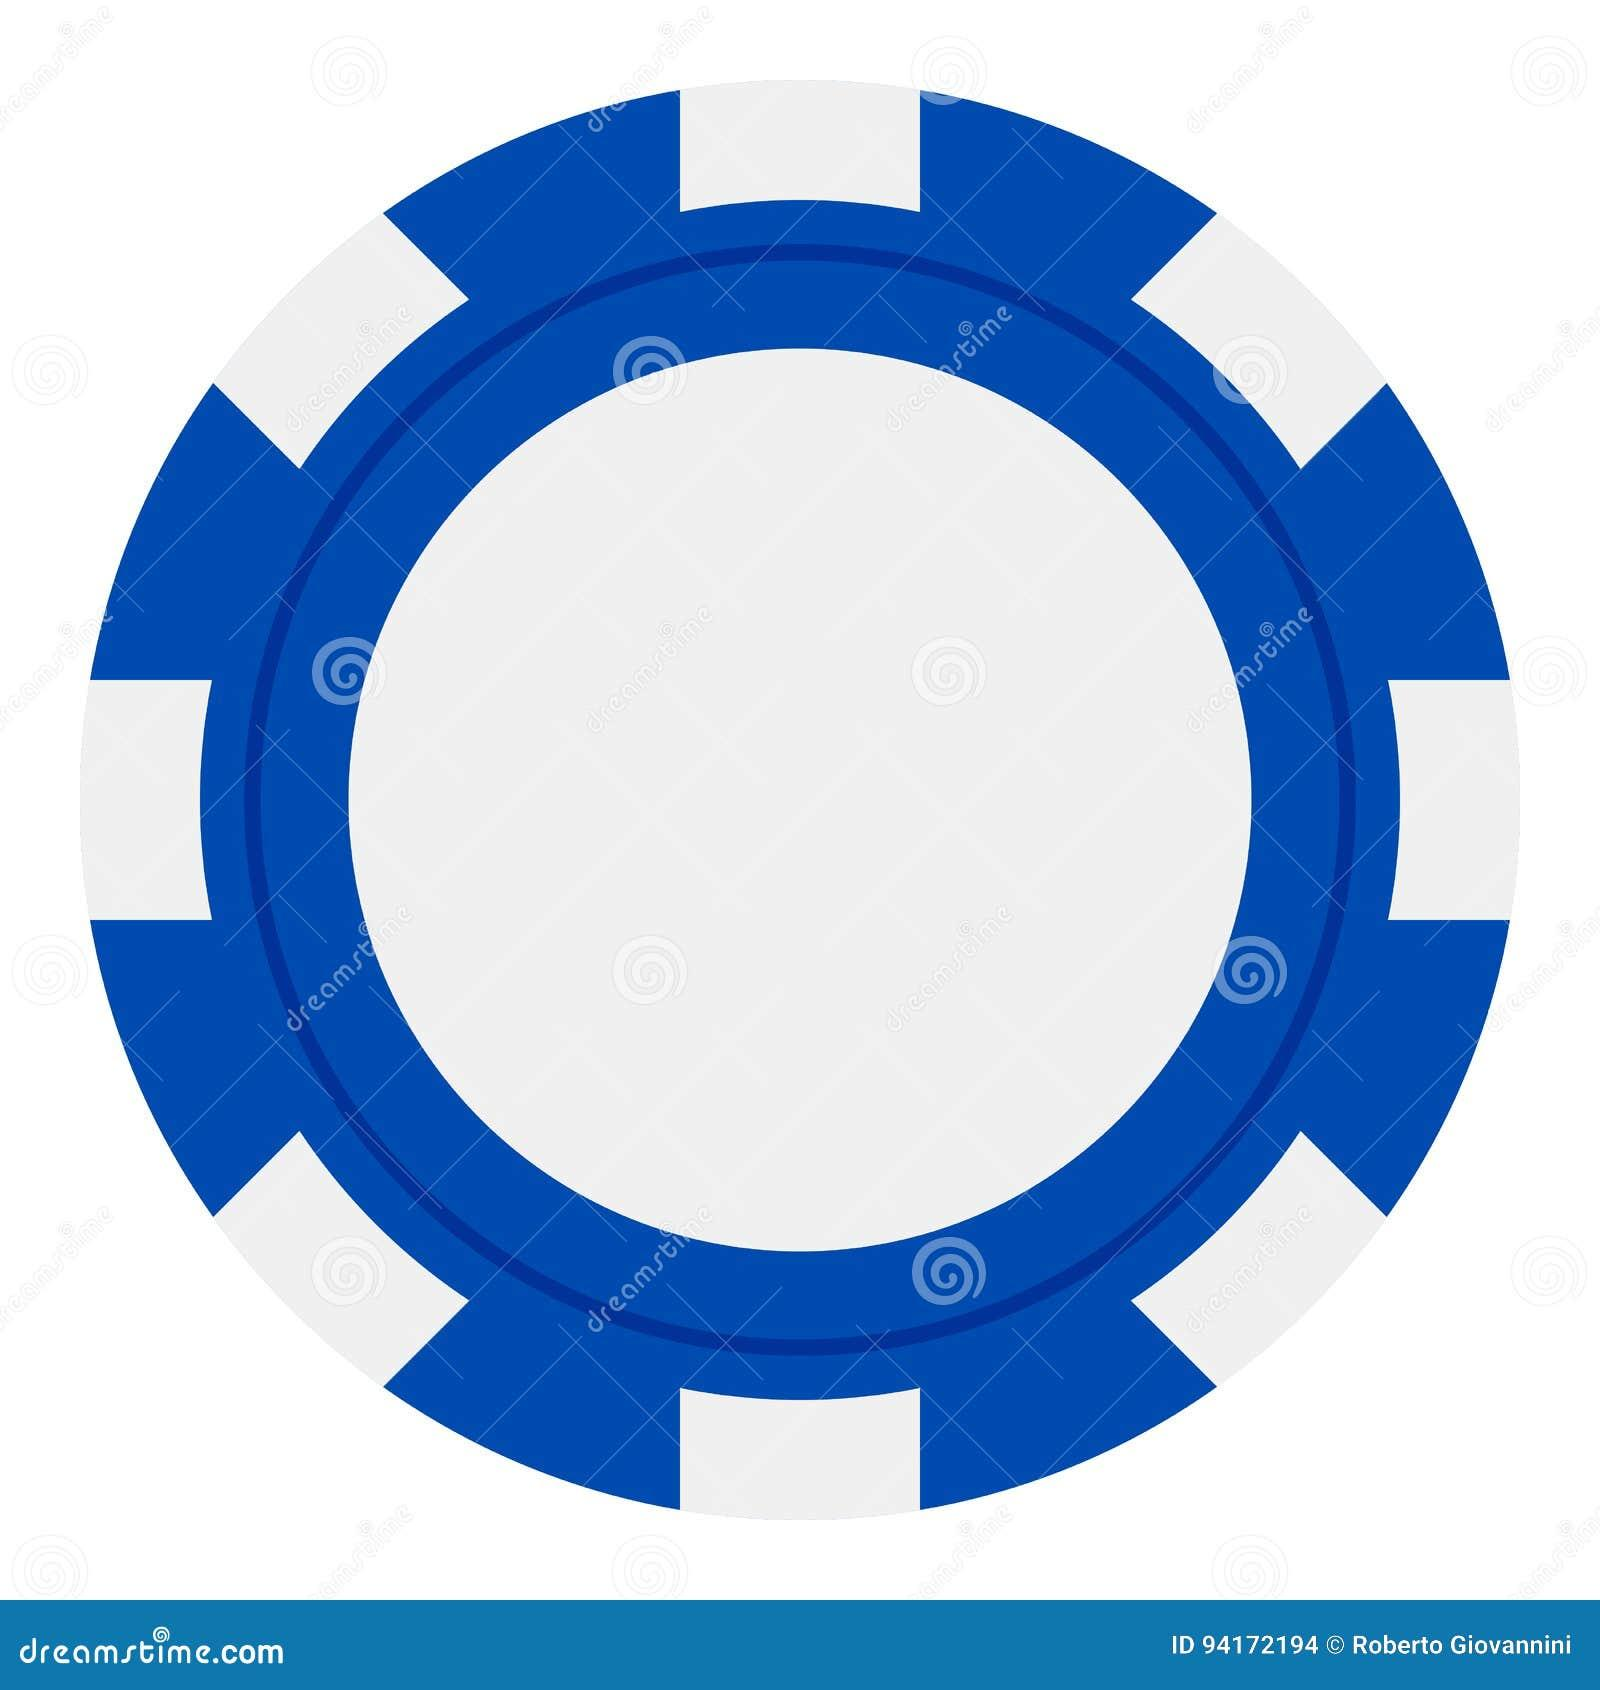chip-blue: (86, 83, 1516, 1516)
